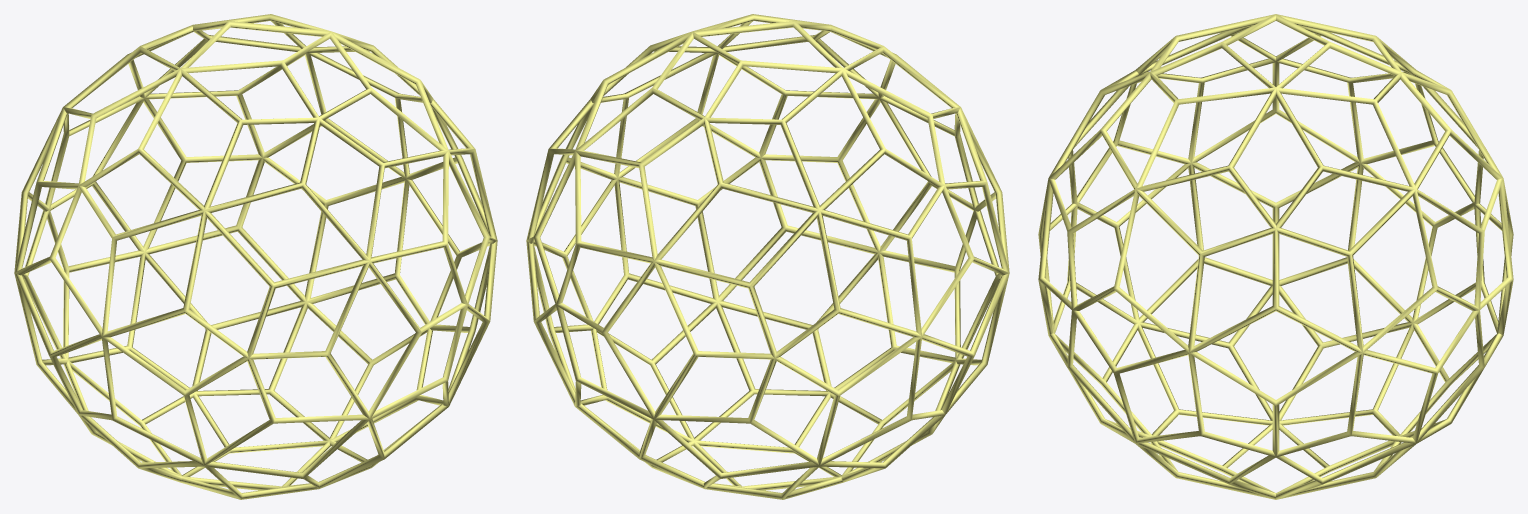
File: SmallHexagonalHexecontahedron2.glb
3 views of the same model, side by side, from view 1: azimuth 30°, elevation 25°; view 2: azimuth 150°, elevation 25°; view 3: azimuth 270°, elevation 25° (orthographic).
Visible parts, largest first — view 1: SmallHexagonalHexecontahedron; view 2: SmallHexagonalHexecontahedron; view 3: SmallHexagonalHexecontahedron.
Part boxes in pixels (x1,y1,x2,y2): SmallHexagonalHexecontahedron: [14, 14, 497, 499]; SmallHexagonalHexecontahedron: [526, 14, 1009, 499]; SmallHexagonalHexecontahedron: [1038, 14, 1513, 499].
Size of the model in its own units: 2.77 by 2.77 by 2.77.
